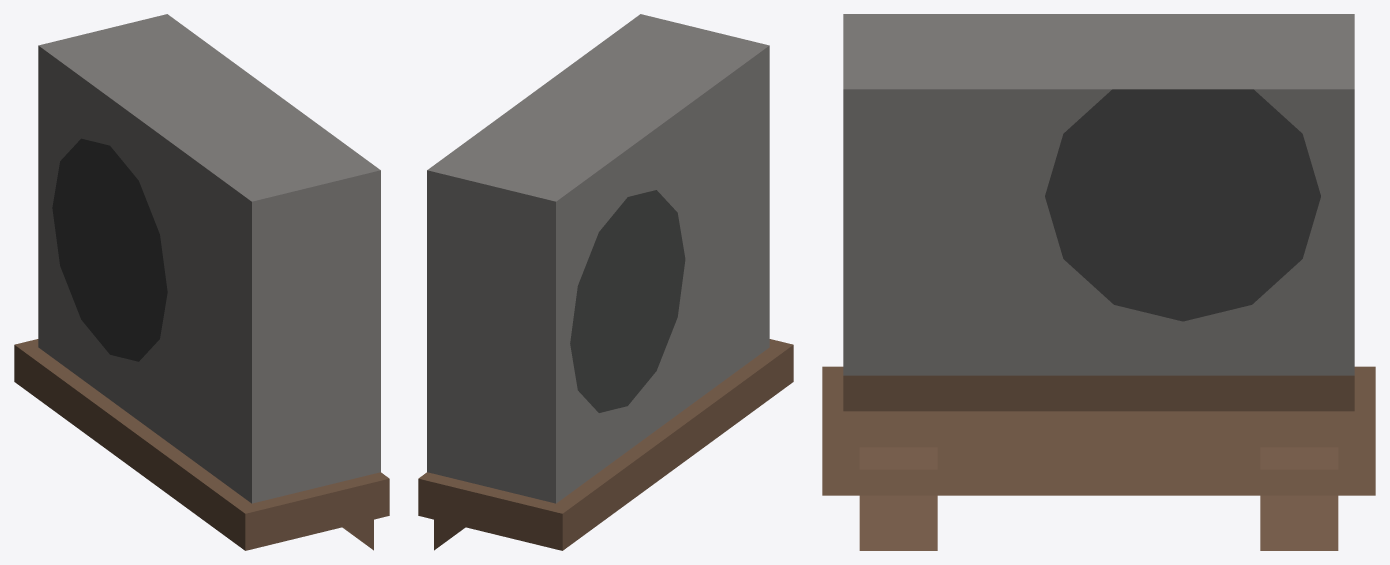
File: prop_ac_unit_1.fbx
3 views of the same model, side by side, from view 1: azimuth 30°, elevation 25°; view 2: azimuth 150°, elevation 25°; view 3: azimuth 270°, elevation 25° (orthographic). The views are drawn at different scales.
Parts seen in each view (by area): view 1: prop_ac_unit_1; view 2: prop_ac_unit_1; view 3: prop_ac_unit_1.
Part boxes in pixels (left/top/right/bottom): prop_ac_unit_1: left=14, top=14, right=389, bottom=550; prop_ac_unit_1: left=418, top=14, right=793, bottom=550; prop_ac_unit_1: left=822, top=14, right=1375, bottom=550.
Size of the model in its own units: 4.73 by 12.08 by 13.13.
